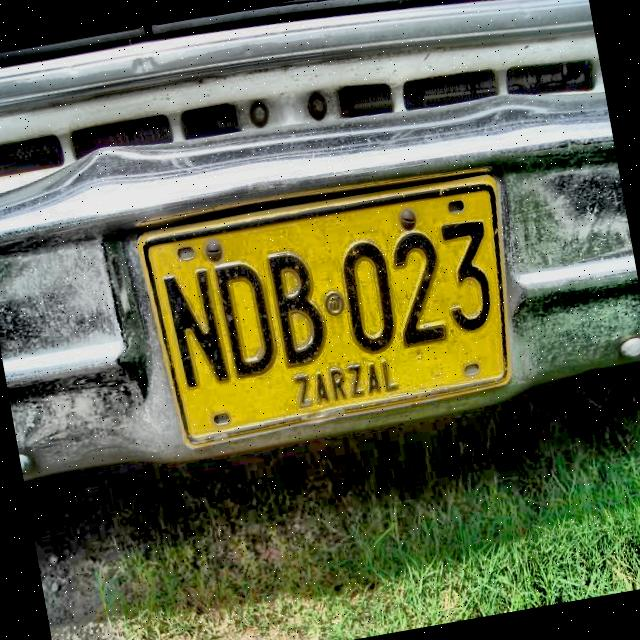plate: (143, 167, 515, 449)
